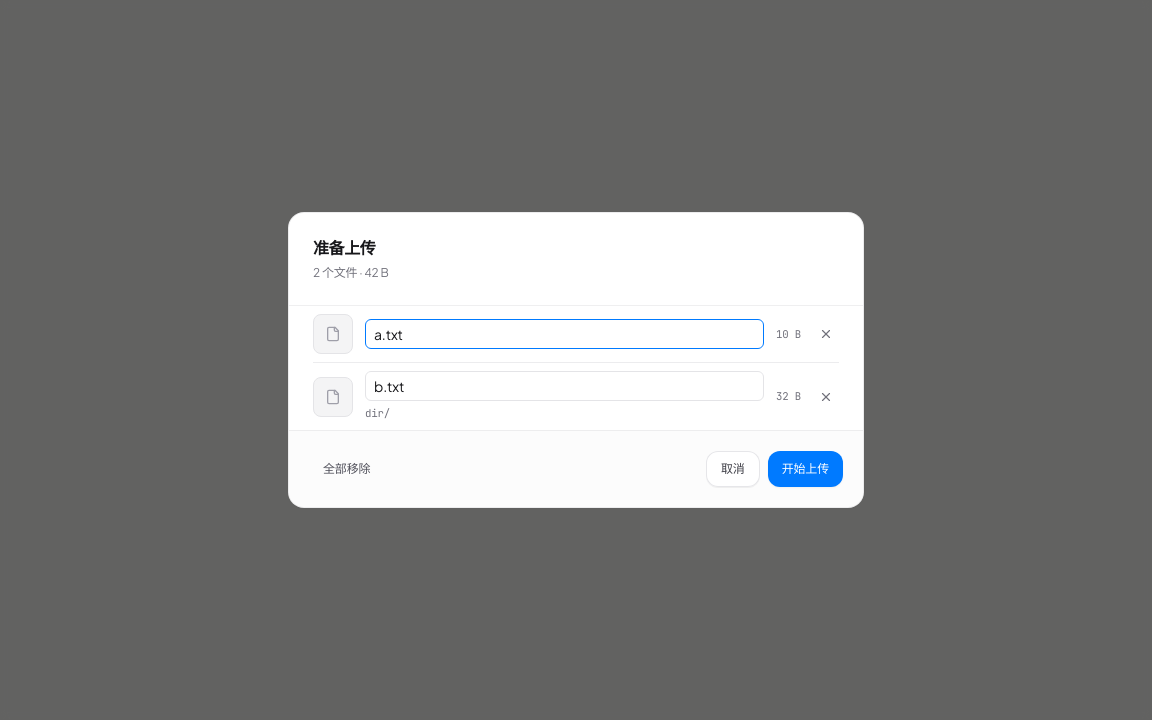
Scenario: UploadPlanDialog › 名字带路径分隔符也被拦下
Clear the field next to "10 B" at point(564, 334), box [365,319,764,349]
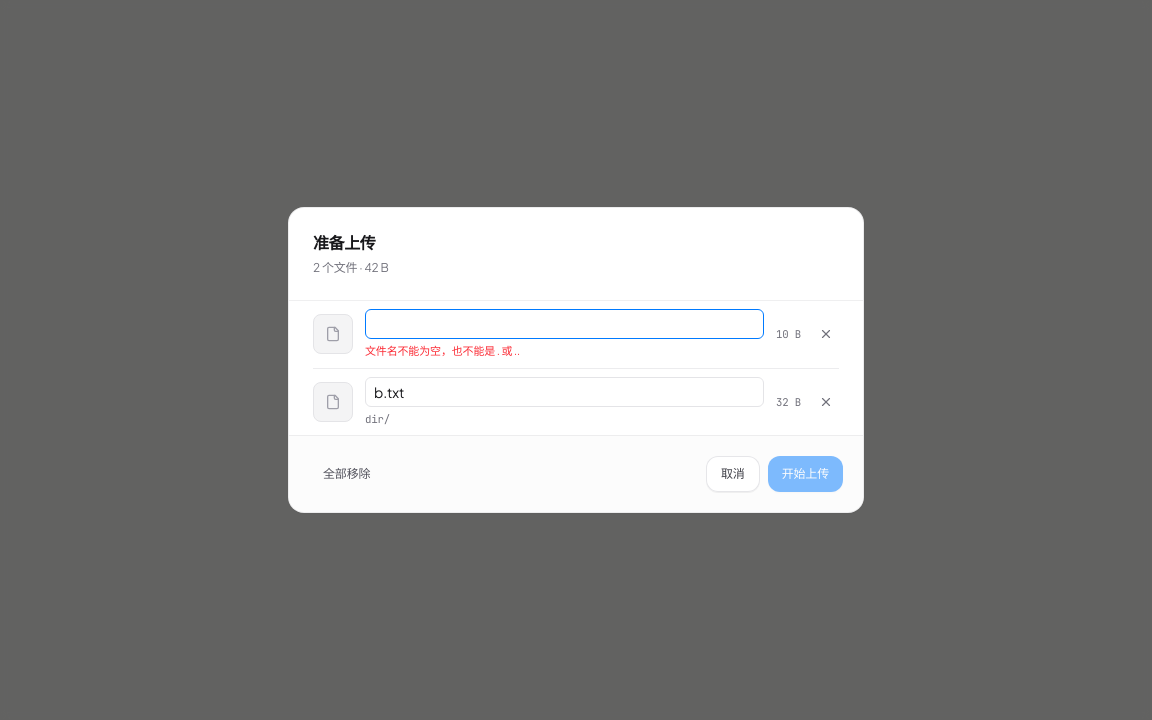
Type "a/b.txt" into the field next to "10 B".
click(564, 324); type("a/b.txt")  # box [365,309,764,339]
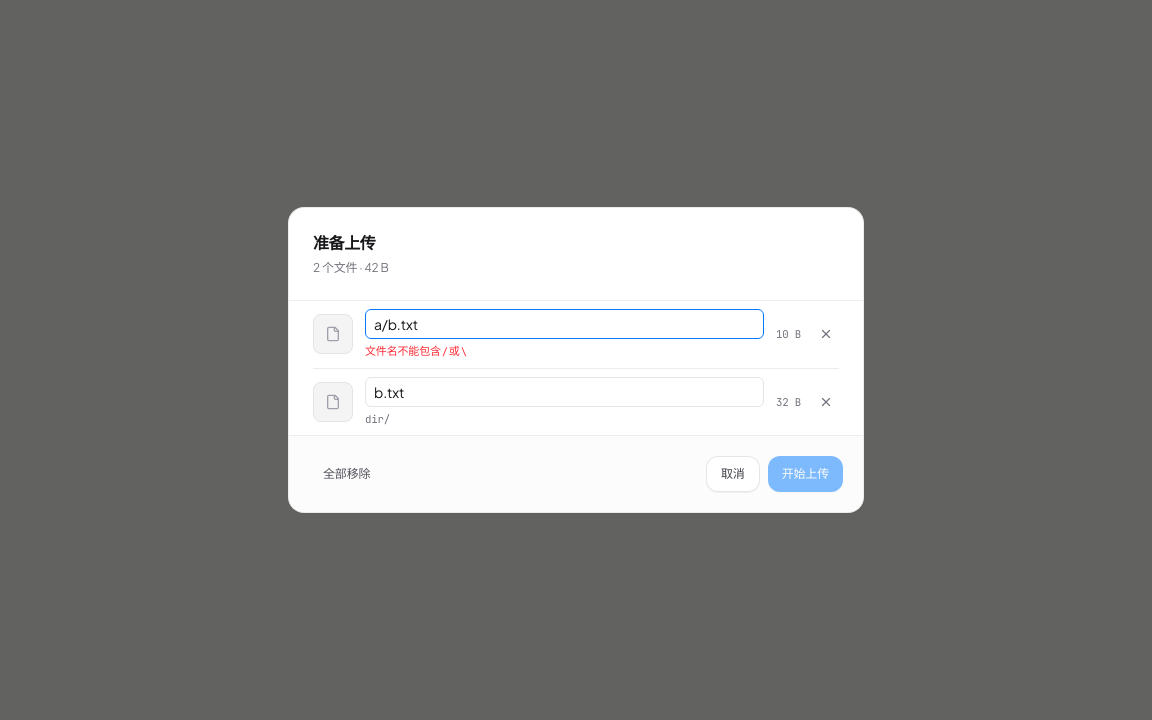
Check: the button "开始上传" is disabled, box [768,456,843,492]
Check: the text "文件名不能包含 / 或 \\" is shown, box [365,344,466,357]
